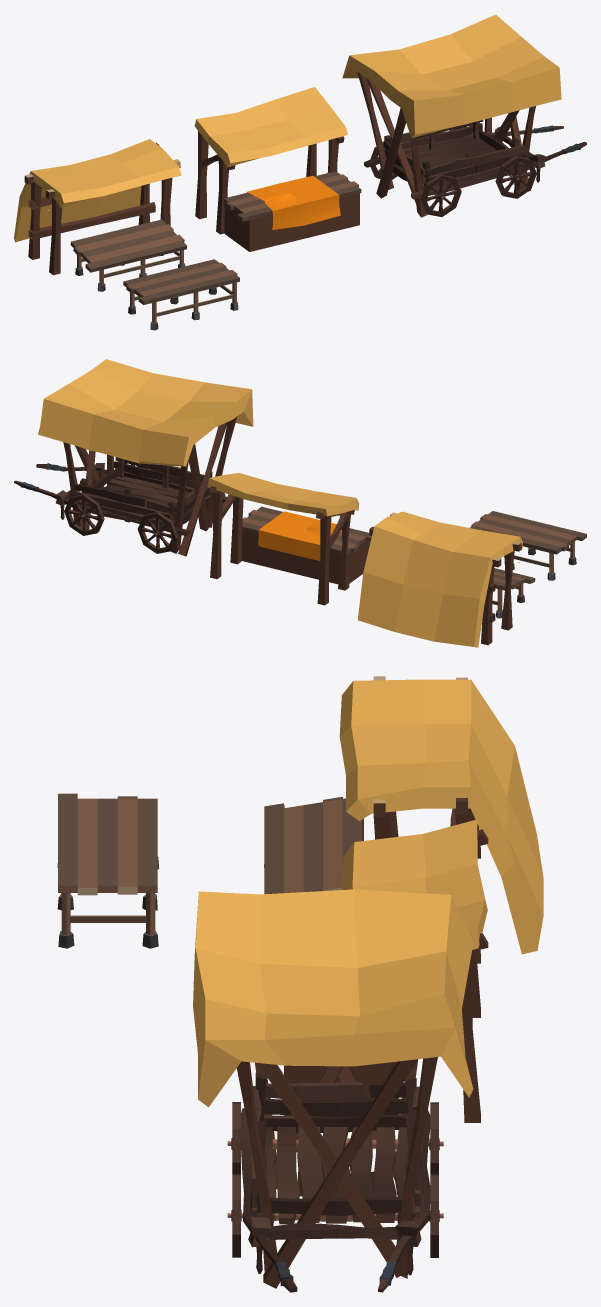
The model's file is ROI_market.FBX.
The picture shows the model from 3 angles, top to bottom: view 1: azimuth 30°, elevation 25°; view 2: azimuth 150°, elevation 25°; view 3: azimuth 270°, elevation 25°; orthographic projection. The views are drawn at different scales.
Parts seen in each view (by area): view 1: Cart, Object001, Object002, table001, TB_Bd_Ext_Big001; view 2: Cart, Object001, Object002, table001, TB_Bd_Ext_Big001; view 3: Cart, Object001, Object002, table001.
Part boxes in pixels (x1,y1,x2,y2): Cart: (342,14,586,217); Object001: (14,139,186,291); Object002: (194,87,359,251); table001: (123,259,239,330); TB_Bd_Ext_Big001: (224,172,361,221); Cart: (14,359,253,556); Object001: (357,511,535,647); Object002: (207,473,370,605); table001: (470,511,586,580); TB_Bd_Ext_Big001: (242,506,371,554); Cart: (193,889,473,1292); Object001: (264,676,543,963); Object002: (284,819,488,1122); table001: (57,793,159,948).
Size of the model in its own units: 802 by 209 by 334.
1 material, 1 textured.
